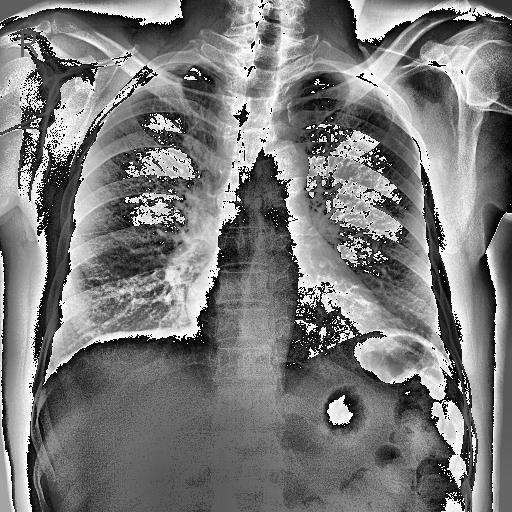0- Aortic enlargement: (254, 136, 308, 202), (254, 138, 311, 196), (259, 143, 310, 189)
11- Pleural thickening: (142, 62, 218, 75), (292, 72, 329, 82)
3- Cardiomegaly: (184, 275, 406, 343), (184, 281, 390, 352), (182, 282, 408, 346)
